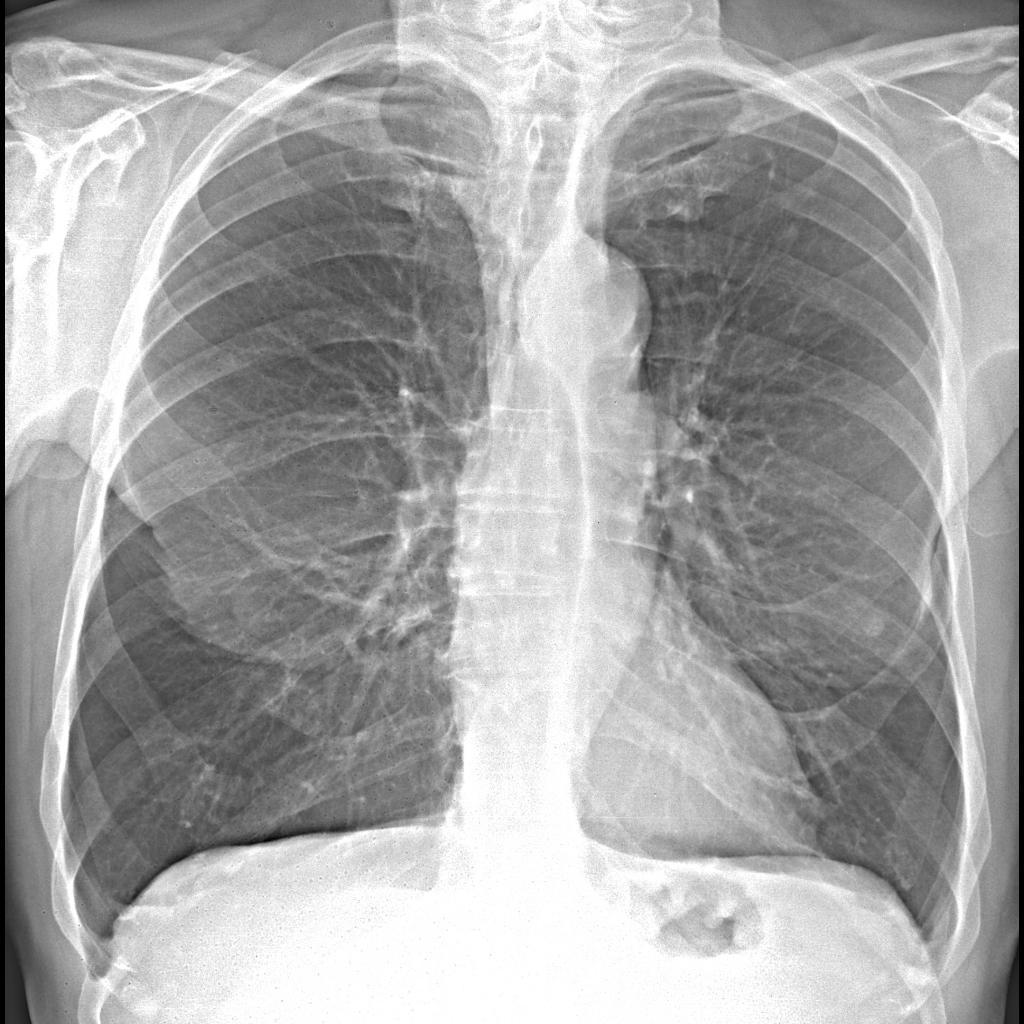Nodule: (851, 611, 900, 657)
